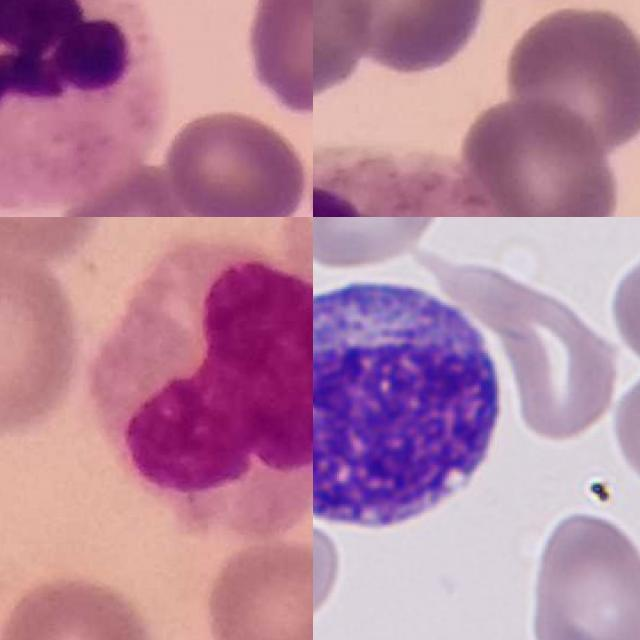Lymphocyte: (313, 267, 513, 545)
Monocyte: (91, 240, 313, 539)
Neutrophil: (0, 0, 170, 211)
RBC: (503, 284, 622, 446), (523, 506, 640, 640), (313, 217, 452, 271), (603, 237, 640, 368), (607, 354, 640, 495), (313, 496, 346, 637)
